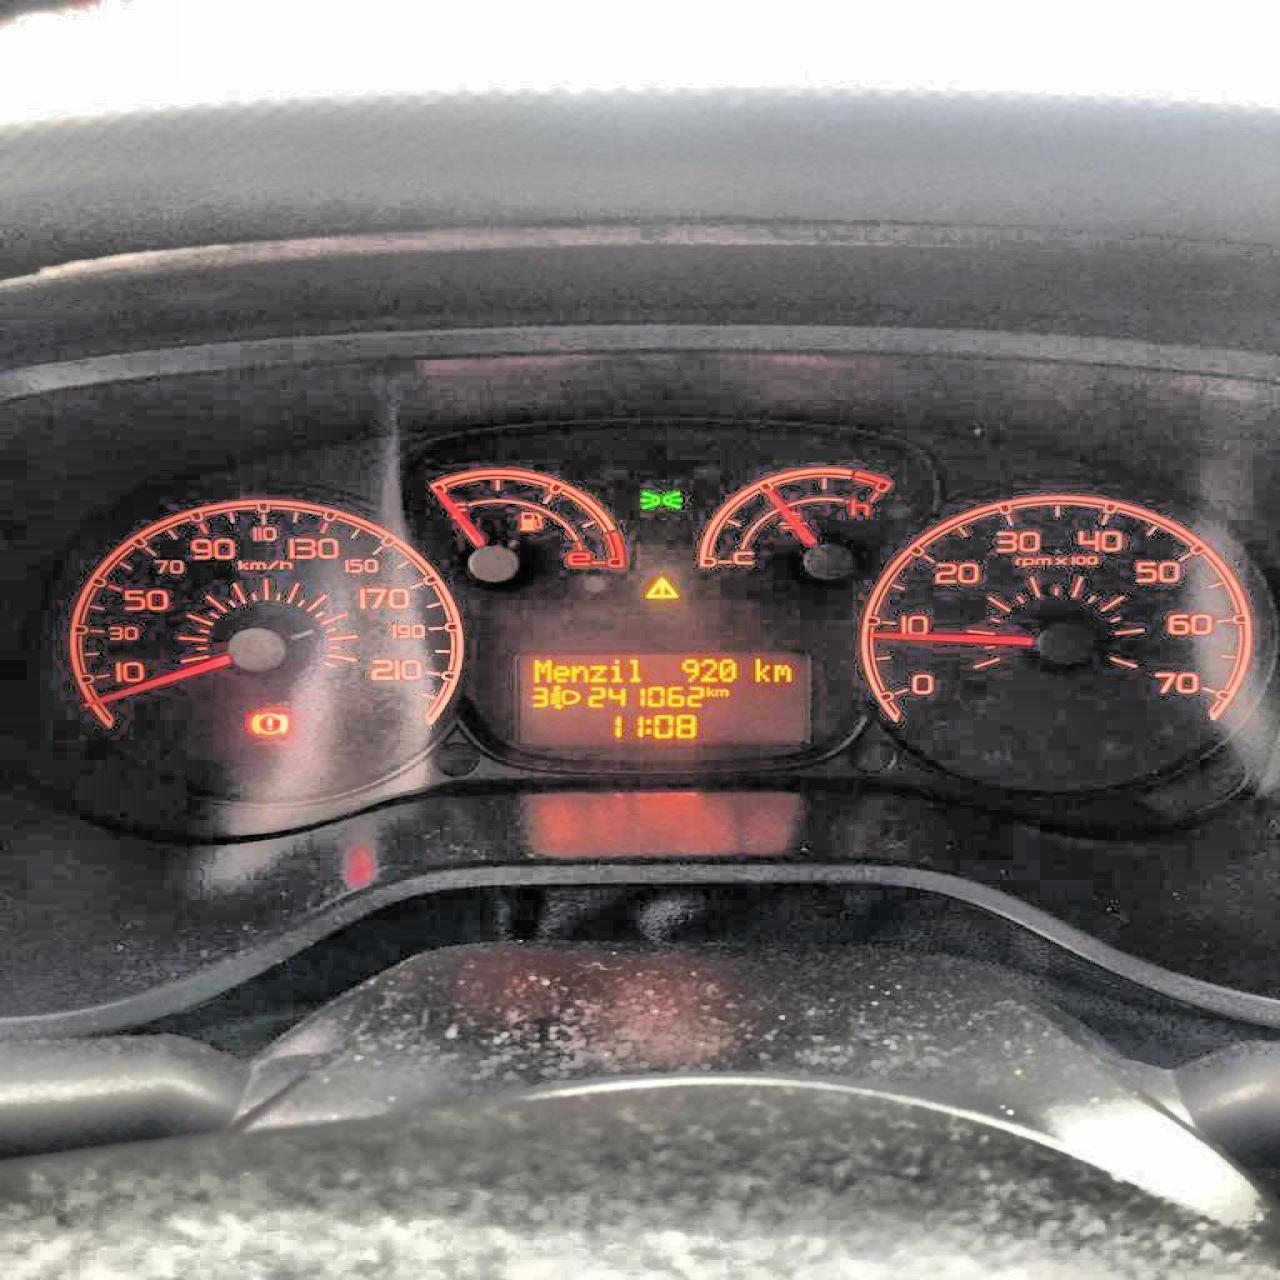0: (715, 656, 737, 682), (644, 683, 665, 708), (652, 713, 672, 738)
1: (606, 714, 621, 738), (628, 713, 644, 737), (632, 685, 644, 709)
2: (585, 685, 605, 707), (700, 656, 716, 682), (685, 685, 703, 707)
3: (529, 685, 546, 707)
4: (606, 685, 626, 706)
6: (665, 683, 683, 708)
8: (673, 713, 696, 740)
9: (679, 658, 699, 681)
X: (530, 658, 550, 685), (750, 654, 768, 682), (624, 656, 641, 682), (607, 656, 624, 682), (770, 662, 790, 682), (550, 662, 568, 682), (568, 663, 588, 682), (588, 663, 608, 682), (641, 716, 652, 735), (703, 682, 714, 697), (714, 687, 729, 697)
odometer: (510, 646, 817, 754)
